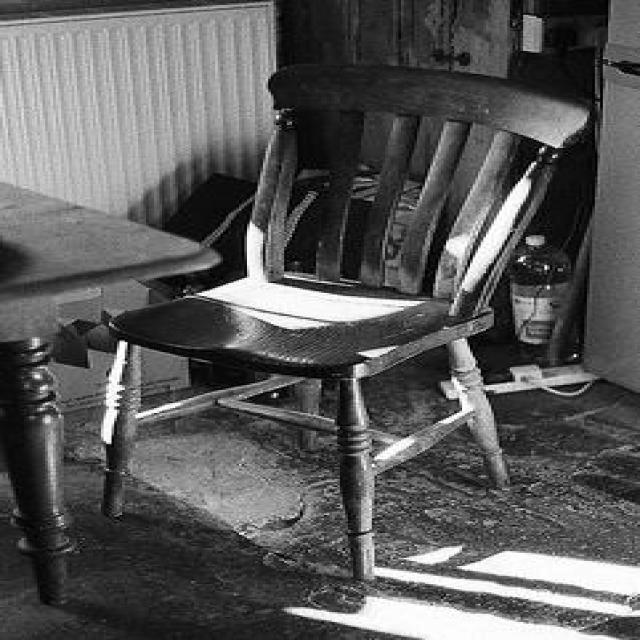chair: (100, 60, 594, 605)
